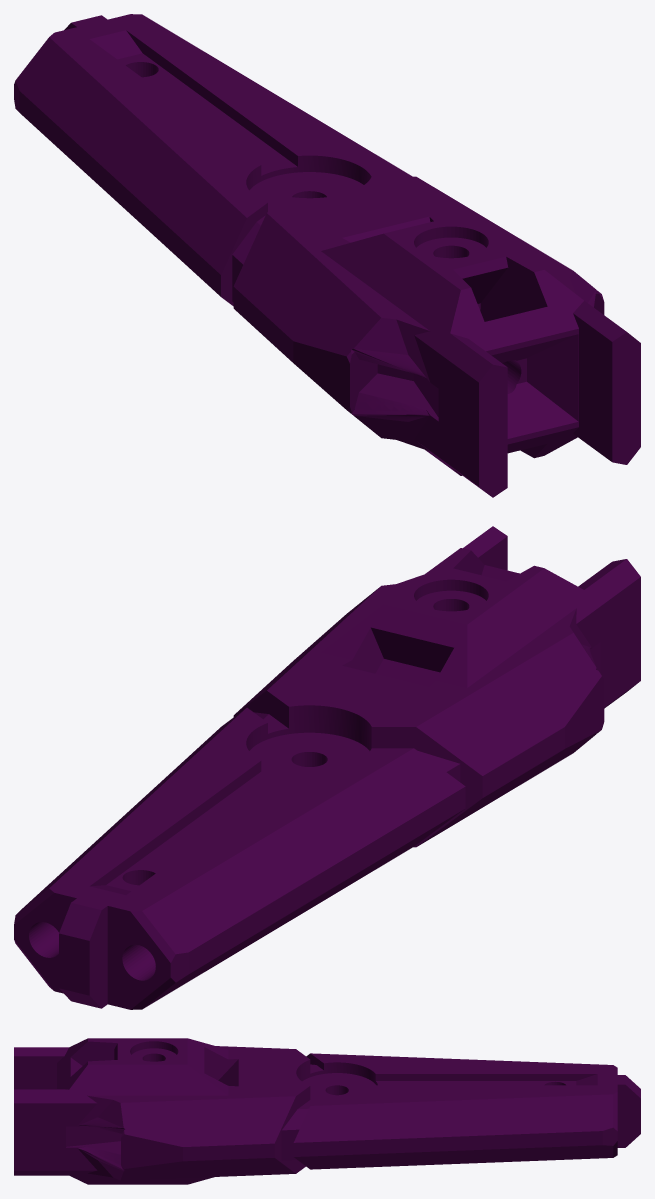
3 renders of one model, top to bottom at view 1: azimuth 30°, elevation 25°; view 2: azimuth 150°, elevation 25°; view 3: azimuth 270°, elevation 25°, orthographic. The views are drawn at different scales.
Parts seen in each view (by area): view 1: ReZELbinder1.00; view 2: ReZELbinder1.00; view 3: ReZELbinder1.00.
Boxes of the visible parts, left/top/right/bottom form: ReZELbinder1.00: left=14, top=14, right=640, bottom=497; ReZELbinder1.00: left=14, top=526, right=640, bottom=1009; ReZELbinder1.00: left=14, top=1038, right=640, bottom=1184.
Bounding box in the file's own units: 260 × 170 × 805.
